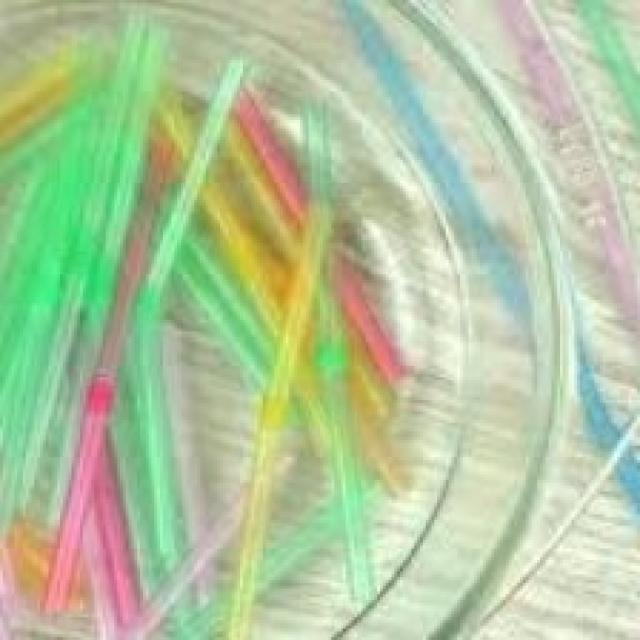plastic: (244, 75, 345, 640)
